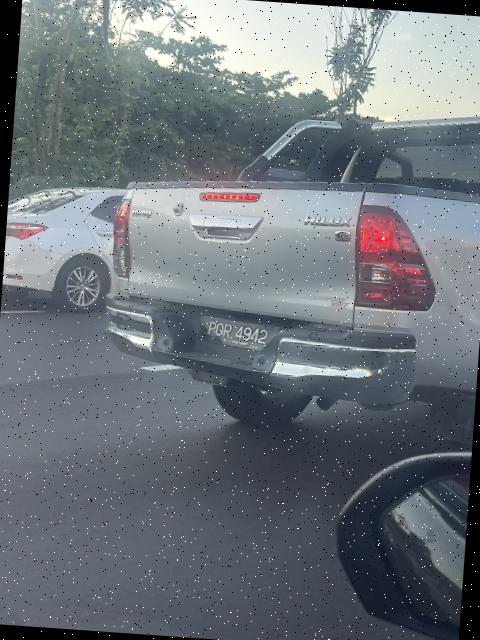License_Plate: (188, 312, 287, 361)
car: (99, 97, 480, 434), (2, 163, 217, 316)
